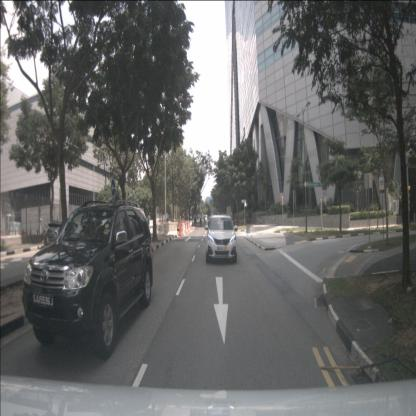barrier: (164, 223, 178, 236), (178, 224, 184, 237), (178, 221, 184, 232), (182, 223, 186, 236), (187, 222, 190, 233), (185, 223, 188, 234), (188, 222, 191, 232), (189, 222, 191, 231)
